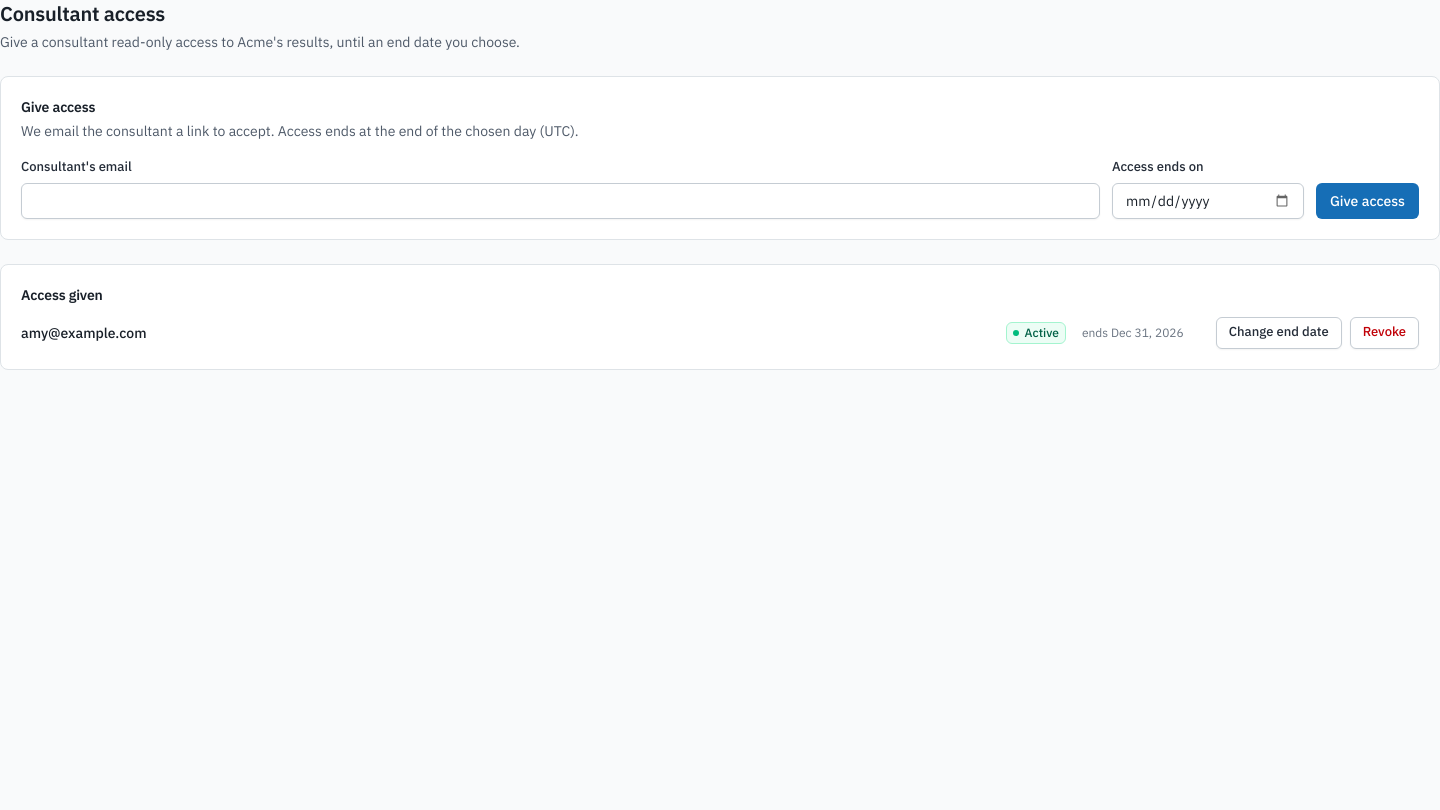
Test: ConsultantsPage › shows a failed end date change inside the dialog
Click the button "Change end date" at (1279, 332), box [1216,316,1342,348]
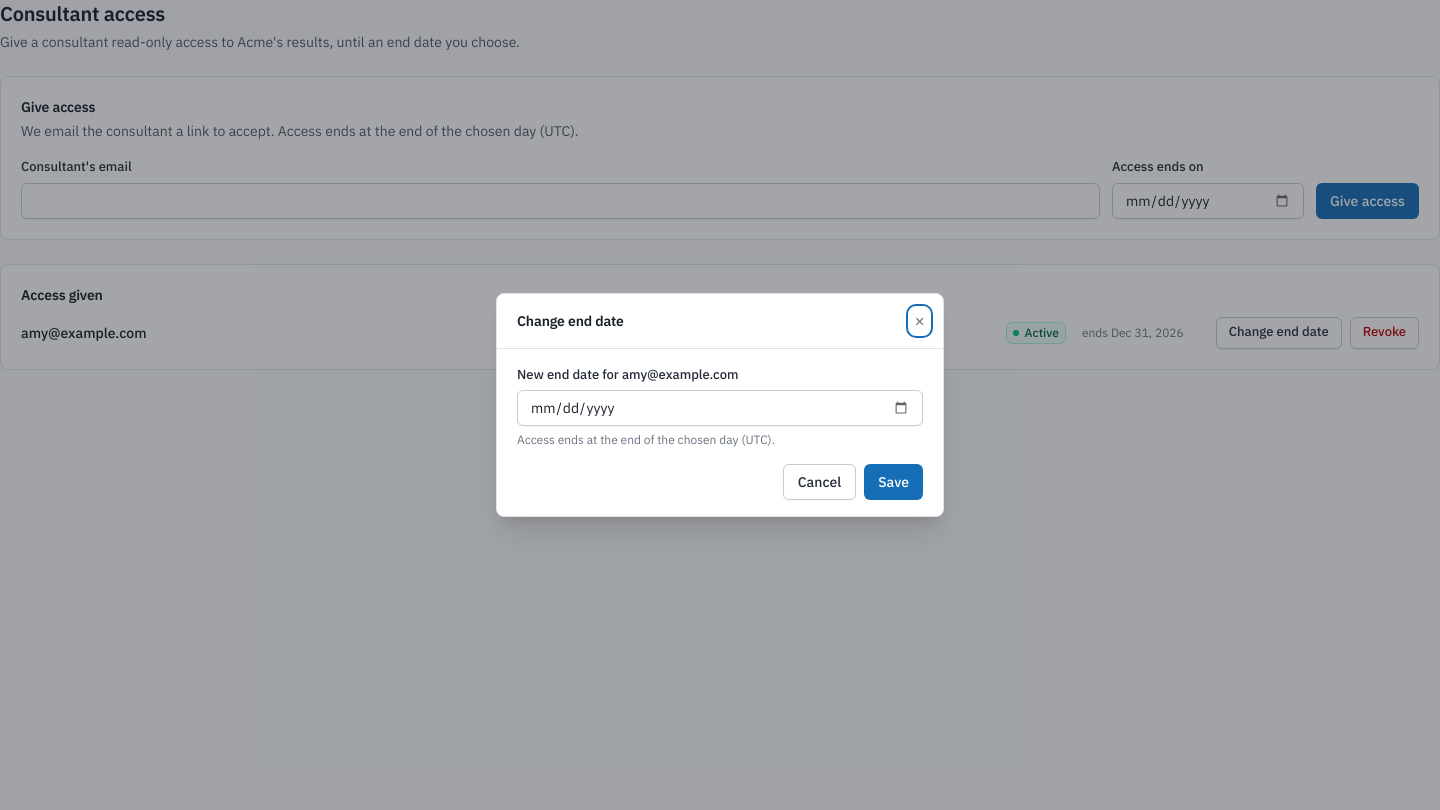
Type "2020-01-01" into the date field labelled "New end date for amy@example.com" at (720, 408), box [517,390,923,426]
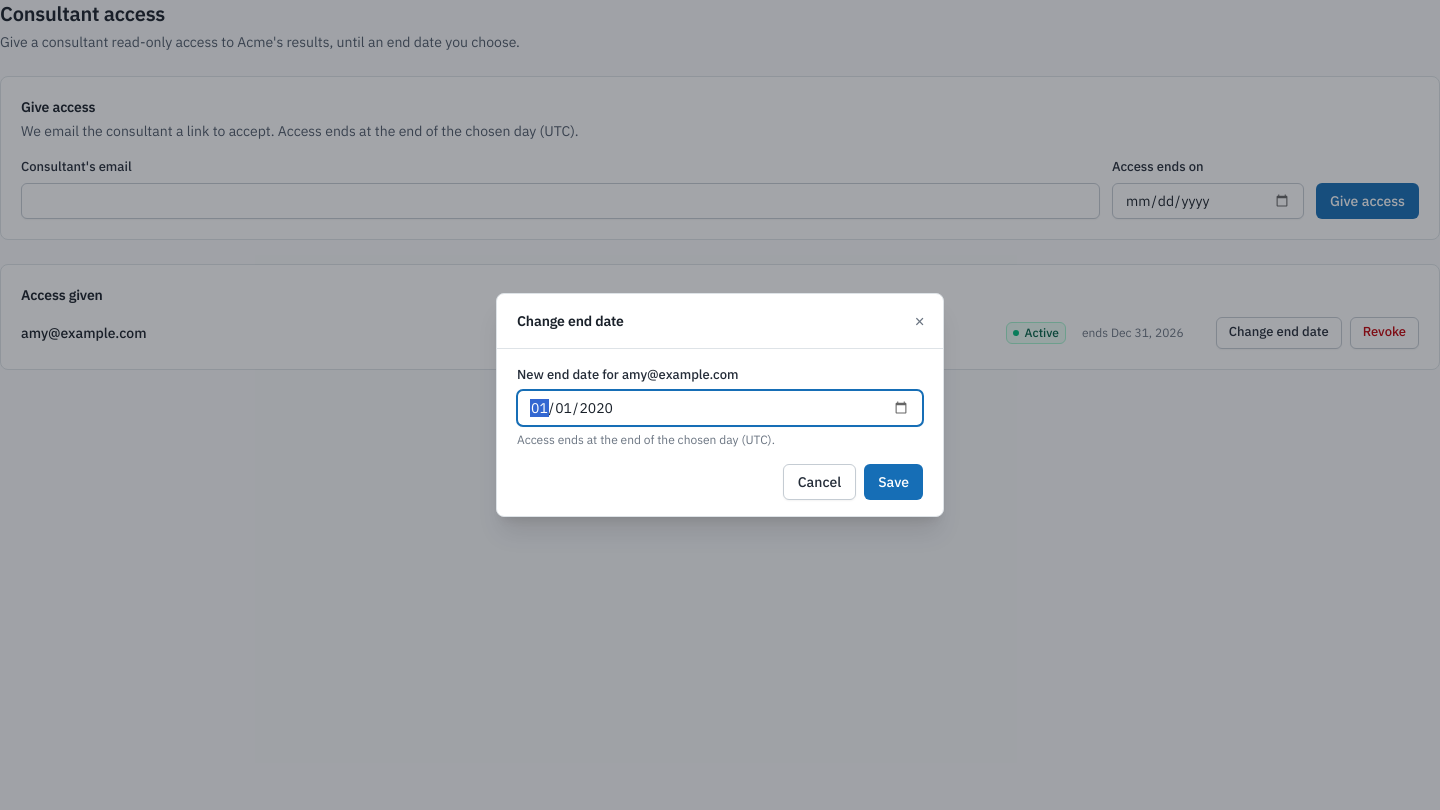
Click the button "Save" at (894, 482), box [864,464,923,500]
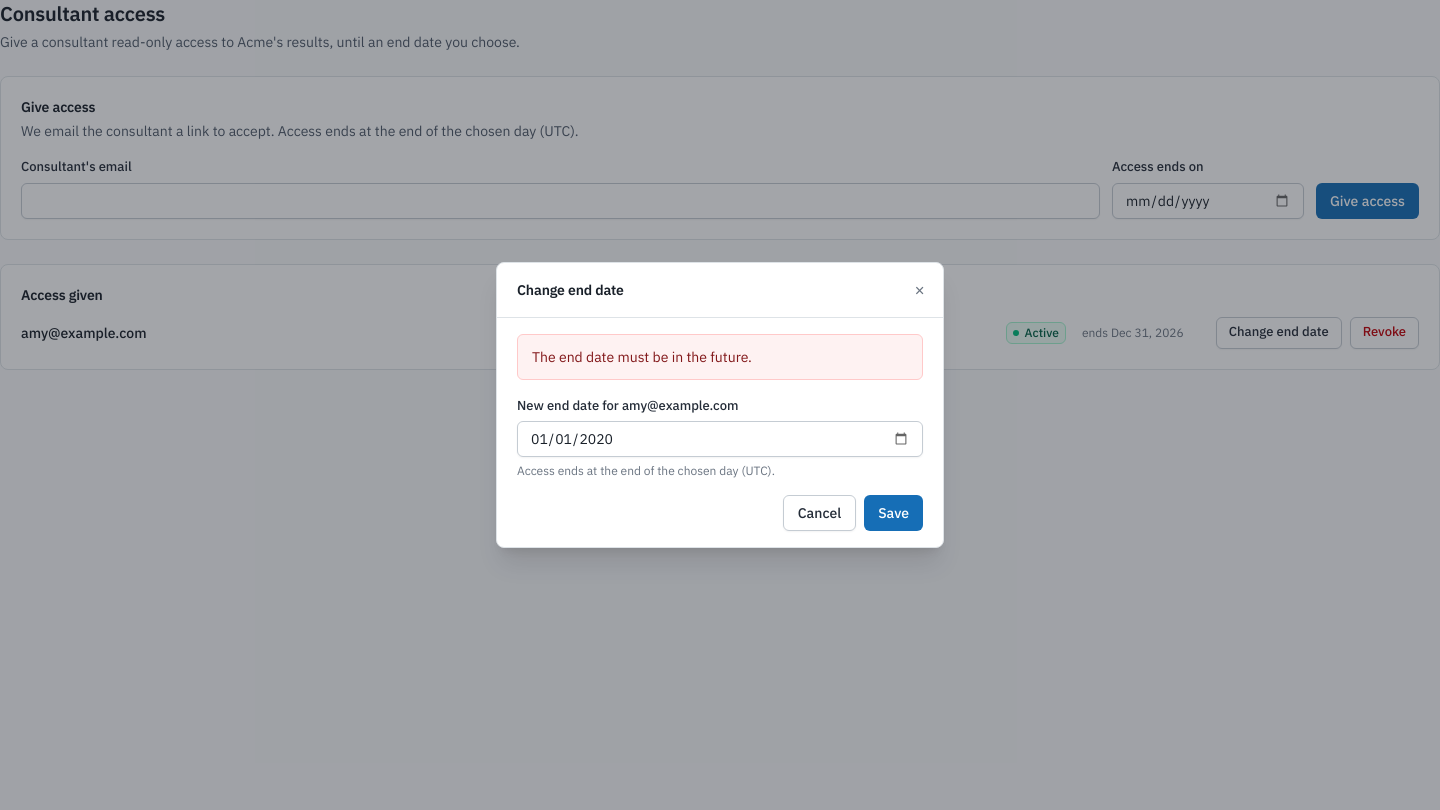
Check: the dialog "Change end date" is shown, box [496,262,944,548]
Check: the message reads "The end date must be in the future.", box [532,348,752,366]
